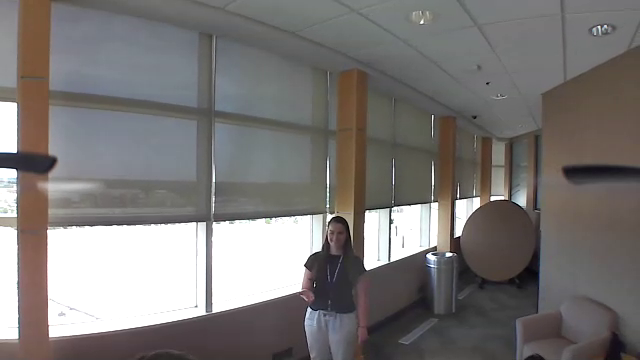land: (292, 283, 320, 307)
